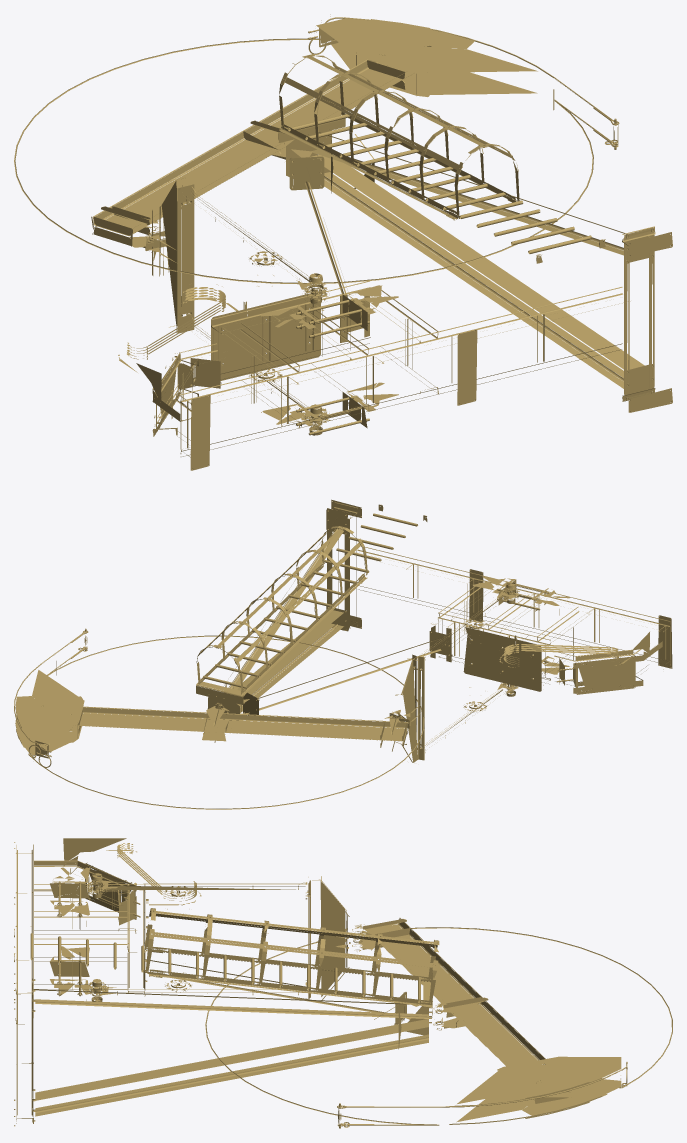
File: sucker-rod-pump.glb
3 renders of one model, top to bottom at view 1: azimuth 30°, elevation 25°; view 2: azimuth 150°, elevation 25°; view 3: azimuth 270°, elevation 25°, orthographic. The views are drawn at different scales.
Visible parts, largest first — view 1: geometry_0; view 2: geometry_0; view 3: geometry_0.
Part boxes in pixels (bbox=[...]): geometry_0: bbox=[14, 14, 672, 470]; geometry_0: bbox=[14, 499, 672, 809]; geometry_0: bbox=[14, 838, 672, 1128].
Size of the model in its own units: 6341 by 2101 by 7073.
